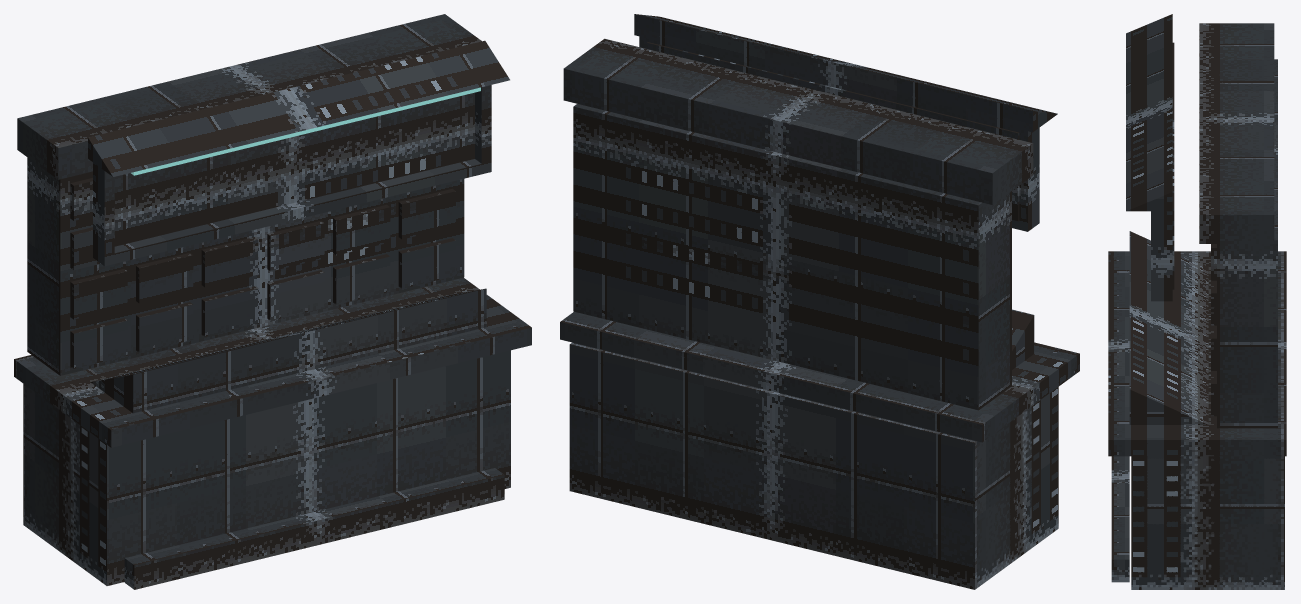
The model's file is hub_archive_terminal.glb.
3 renders of one model, left to right at view 1: azimuth 30°, elevation 25°; view 2: azimuth 150°, elevation 25°; view 3: azimuth 270°, elevation 25°, orthographic. The views are drawn at different scales.
Parts seen in each view (by area): view 1: hub_archive_terminal; view 2: hub_archive_terminal; view 3: hub_archive_terminal.
Part boxes in pixels (box(x1,y1,x2,y2)): hub_archive_terminal: box(14, 14, 531, 589); hub_archive_terminal: box(560, 14, 1079, 589); hub_archive_terminal: box(1108, 14, 1286, 589).
Size of the model in its own units: 2.54 by 2.45 by 1.
Materials: 2 (1 with a texture image).
